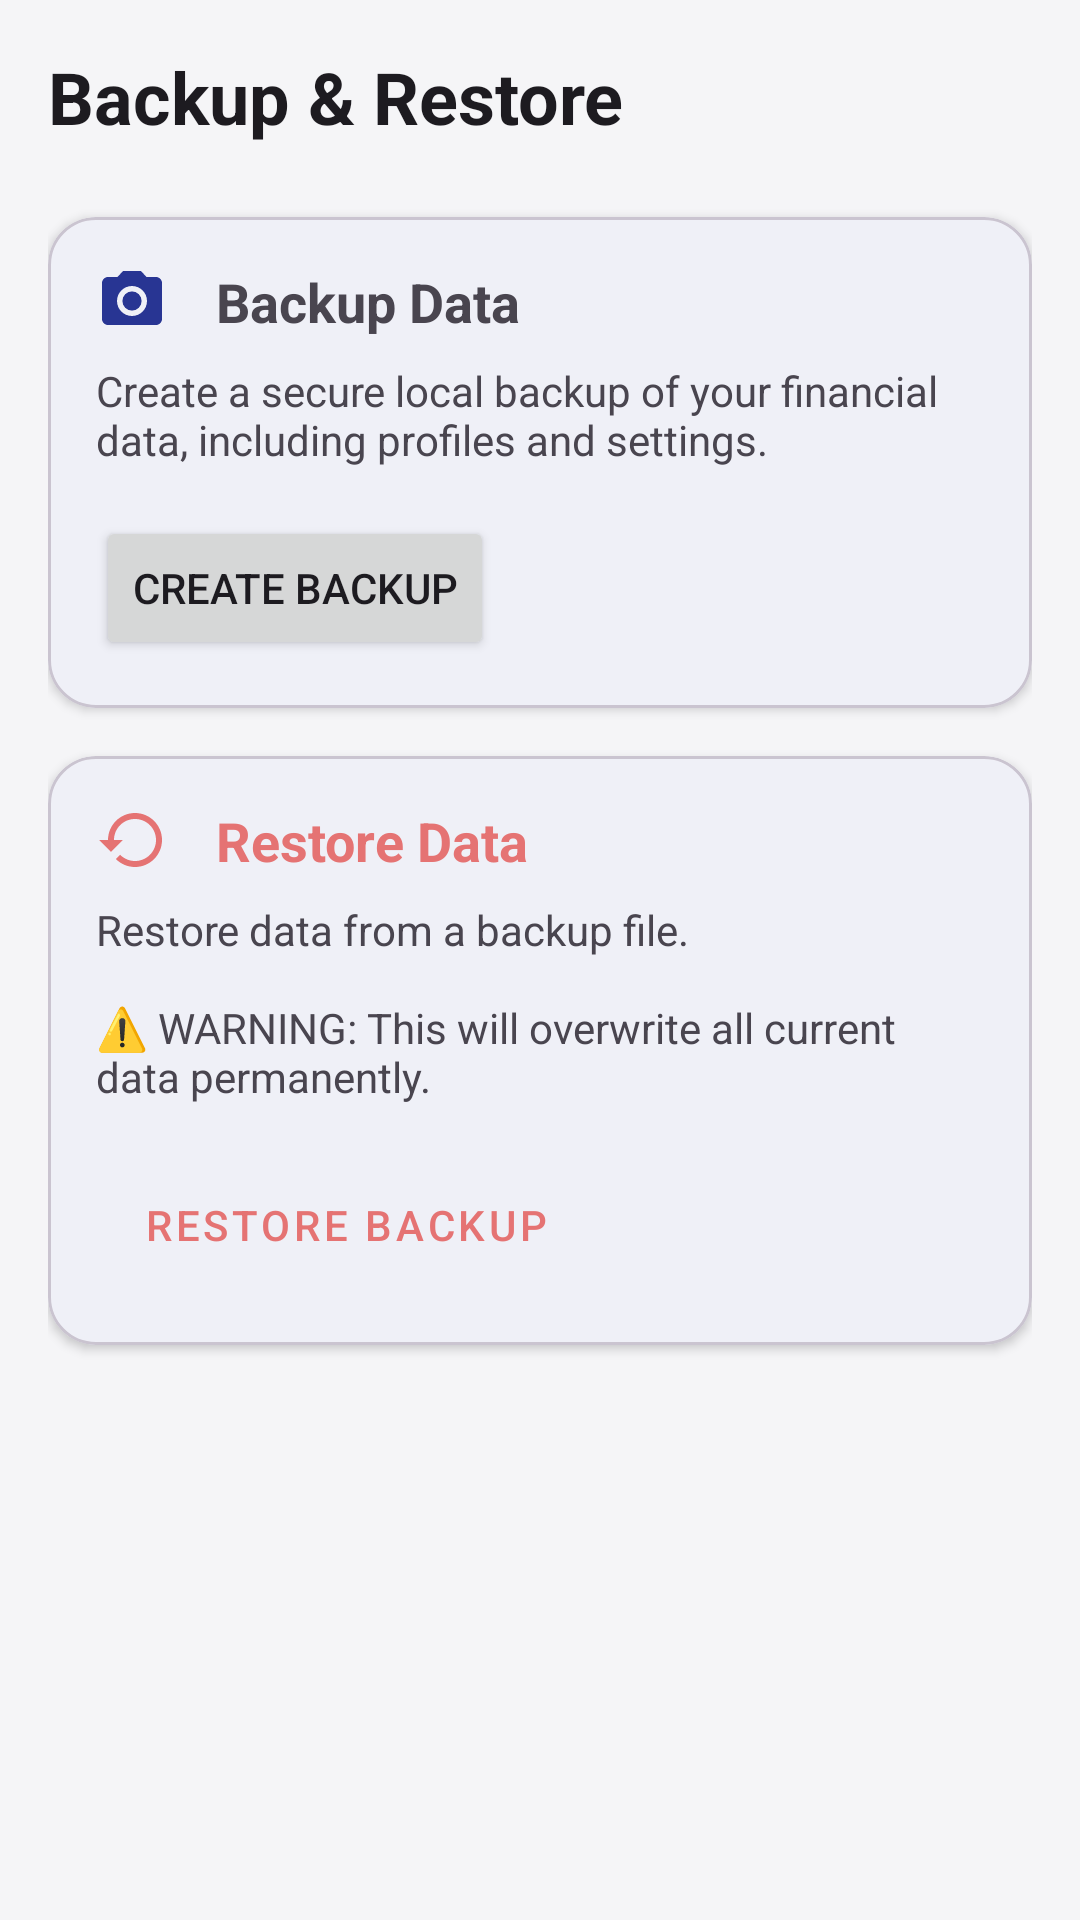

Named icons in this screenshot (1080px x 1920px) and their bounding boxes, (x1, y1, x2, y2):
camera: (102, 271, 162, 325)
